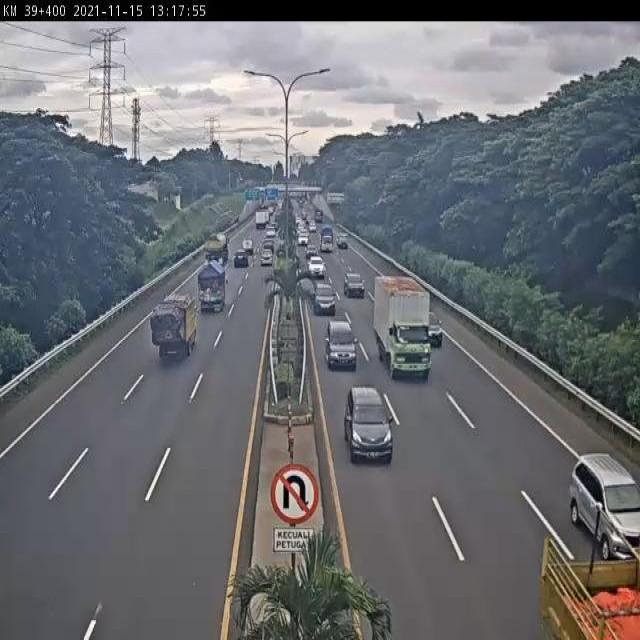car: (568, 452, 640, 564), (342, 387, 395, 465), (325, 317, 357, 368), (311, 280, 338, 316), (343, 268, 366, 300), (426, 313, 445, 348)
truck-m-: (373, 274, 432, 382), (150, 293, 200, 363), (197, 261, 228, 312)
